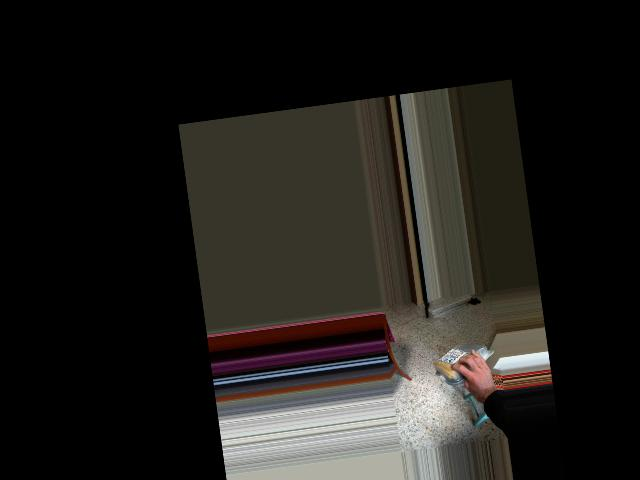cheese: (426, 343, 492, 379)
